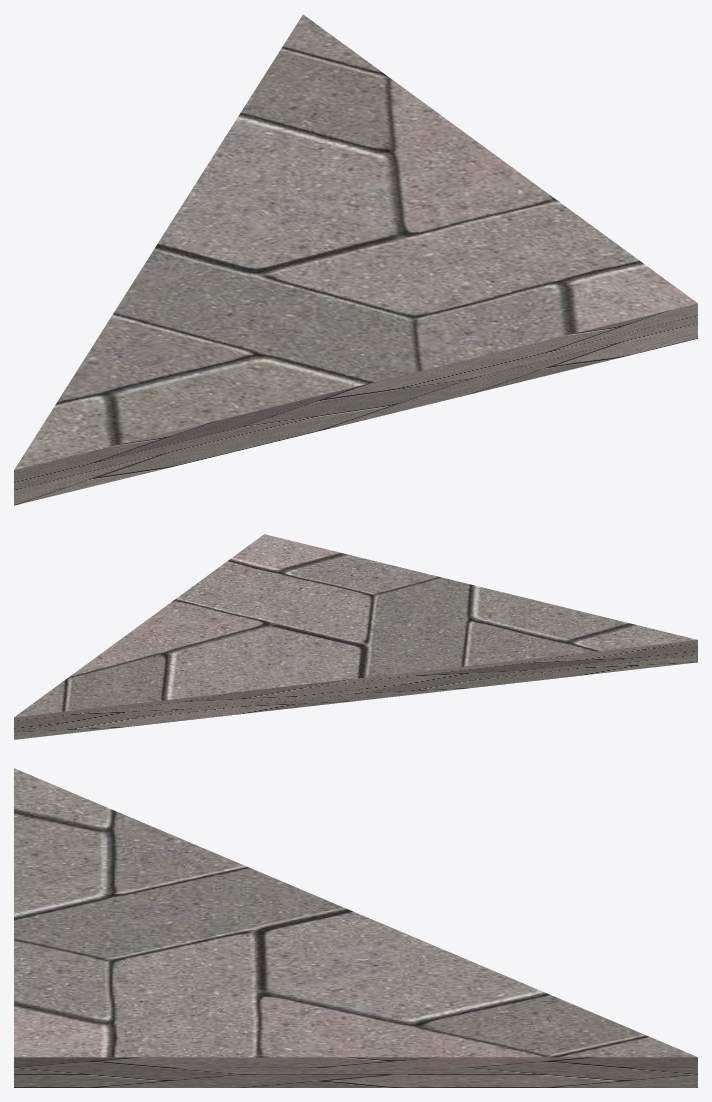
The model's file is EXTRA_PIECE.fbx.
The picture shows the model from 3 angles, top to bottom: view 1: azimuth 30°, elevation 25°; view 2: azimuth 150°, elevation 25°; view 3: azimuth 270°, elevation 25°; orthographic projection. The views are drawn at different scales.
Parts seen in each view (by area): view 1: EXTRA; view 2: EXTRA; view 3: EXTRA.
Boxes of the visible parts, x1=… form: EXTRA: x1=14, y1=14, x2=697, y2=505; EXTRA: x1=14, y1=534, x2=697, y2=739; EXTRA: x1=14, y1=768, x2=697, y2=1087.
Bounding box in the file's own units: 2020 × 100 × 2020.
